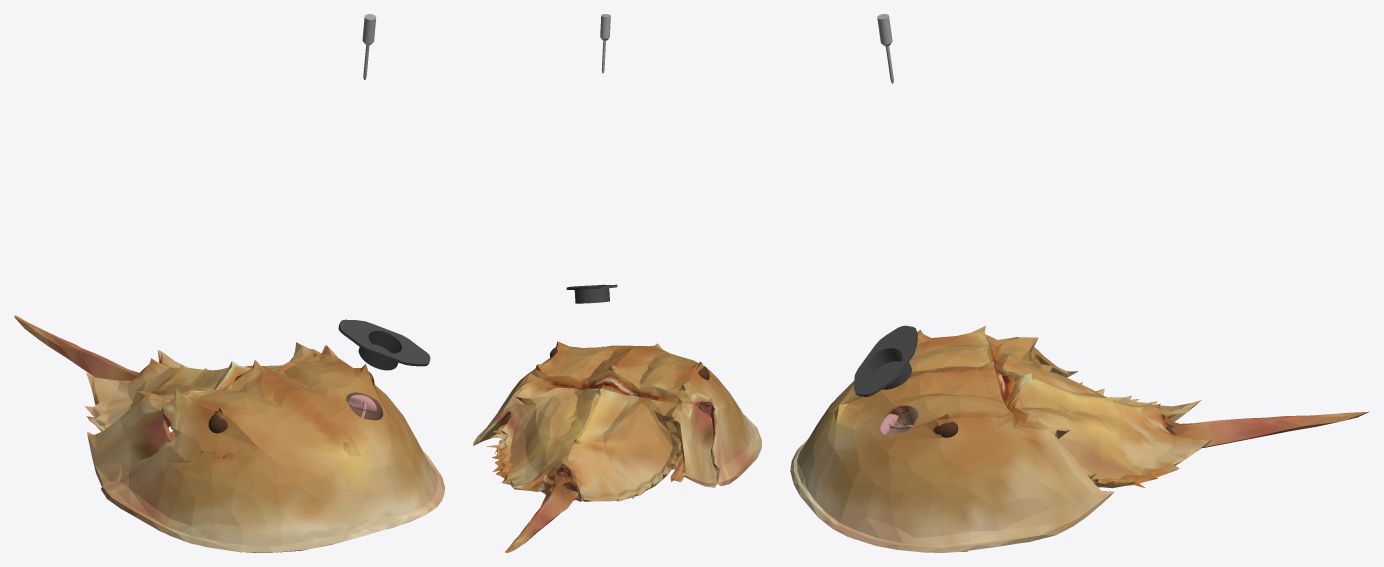
The model's file is hscrab_setup_animated.glb.
3 renders of one model, left to right at view 1: azimuth 30°, elevation 25°; view 2: azimuth 150°, elevation 25°; view 3: azimuth 270°, elevation 25°, orthographic. The views are drawn at different scales.
Parts seen in each view (by area): view 1: HorseShoeCrab.001, Plane.002; view 2: HorseShoeCrab.001, Plane.002, Cylinder.003; view 3: HorseShoeCrab.001, Plane.002.
Part boxes in pixels (x1,y1,x2,y2): HorseShoeCrab.001: (14,315,444,552); Plane.002: (338,319,430,370); HorseShoeCrab.001: (473,341,761,552); Plane.002: (566,284,617,303); Cylinder.003: (600,14,610,73); HorseShoeCrab.001: (790,326,1368,552); Plane.002: (854,325,917,396).
Bounding box in the file's own units: 3.9 × 6.22 × 6.53.
Materials: 5 (5 with a texture image).
